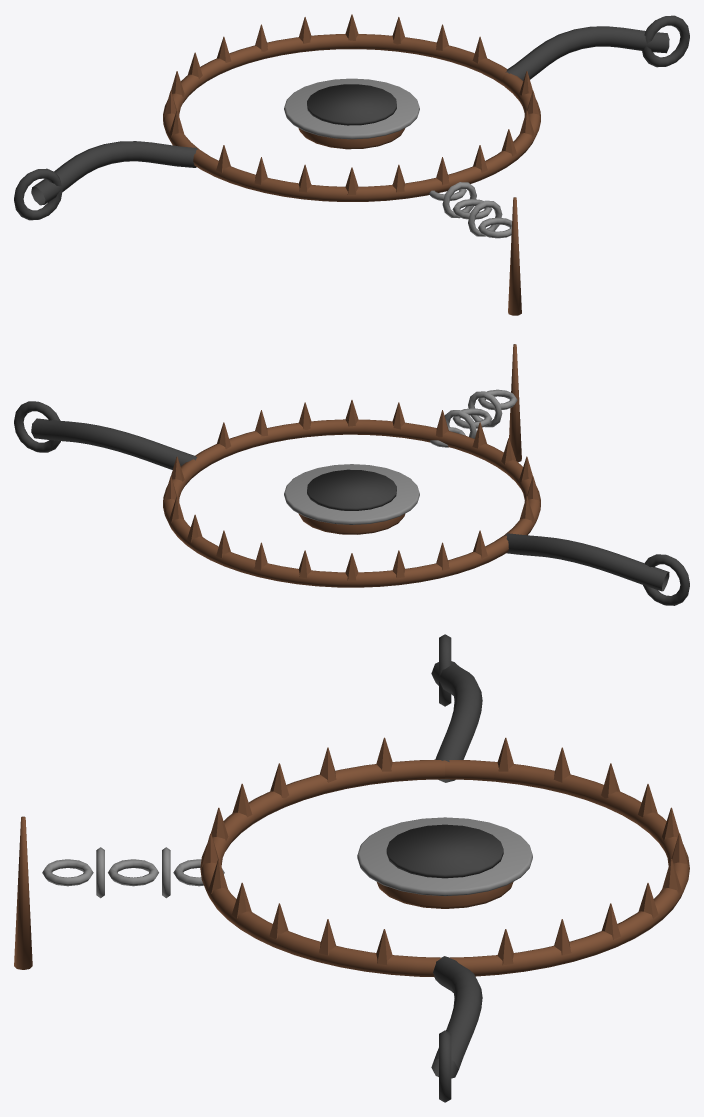
The model's file is beartrap.glb.
3 renders of one model, top to bottom at view 1: azimuth 30°, elevation 25°; view 2: azimuth 150°, elevation 25°; view 3: azimuth 270°, elevation 25°, orthographic. The views are drawn at different scales.
Visible parts, largest first — view 1: jaw.001, jaw, plate, spring.001_m, spring_m, trigger, eye, eye.001, stake, base, link.003, link.001 (+1 smaller); view 2: jaw, jaw.001, plate, spring.001_m, spring_m, trigger, eye, eye.001, base, stake, link.003, link.004 (+1 smaller); view 3: jaw.001, jaw, plate, trigger, spring_m, spring.001_m, stake, base, eye, link.002, link.004.
Part boxes in pixels (x1=…): jaw.001: x1=193, y1=73, x2=540, y2=201; jaw: x1=163, y1=34, x2=507, y2=149; plate: x1=284, y1=78, x2=419, y2=139; spring.001_m: x1=31, y1=141, x2=197, y2=205; spring_m: x1=505, y1=26, x2=669, y2=80; trigger: x1=307, y1=84, x2=396, y2=125; eye: x1=642, y1=15, x2=689, y2=67; eye.001: x1=14, y1=168, x2=62, y2=220; stake: x1=508, y1=197, x2=521, y2=315; base: x1=298, y1=128, x2=405, y2=149; link.003: x1=468, y1=200, x2=502, y2=236; link.001: x1=442, y1=182, x2=476, y2=218; jaw: x1=163, y1=459, x2=508, y2=587; jaw.001: x1=195, y1=419, x2=540, y2=535; plate: x1=284, y1=464, x2=419, y2=524; spring.001_m: x1=505, y1=533, x2=669, y2=591; spring_m: x1=31, y1=418, x2=196, y2=469; trigger: x1=307, y1=469, x2=396, y2=510; eye: x1=14, y1=401, x2=60, y2=452; eye.001: x1=643, y1=554, x2=689, y2=605; base: x1=298, y1=513, x2=405, y2=534; stake: x1=509, y1=344, x2=521, y2=462; link.003: x1=468, y1=391, x2=502, y2=427; link.004: x1=478, y1=389, x2=517, y2=410; jaw.001: x1=200, y1=759, x2=444, y2=977; jaw: x1=445, y1=760, x2=689, y2=976; plate: x1=357, y1=817, x2=532, y2=896; trigger: x1=386, y1=824, x2=503, y2=878; spring_m: x1=431, y1=956, x2=482, y2=1078; spring.001_m: x1=431, y1=661, x2=482, y2=782; stake: x1=14, y1=816, x2=32, y2=969; base: x1=377, y1=882, x2=513, y2=908; eye: x1=439, y1=1030, x2=451, y2=1102; link.002: x1=108, y1=859, x2=158, y2=886; link.004: x1=42, y1=859, x2=93, y2=886.
Bounding box in the file's own units: 0.862 × 0.14 × 0.577.
